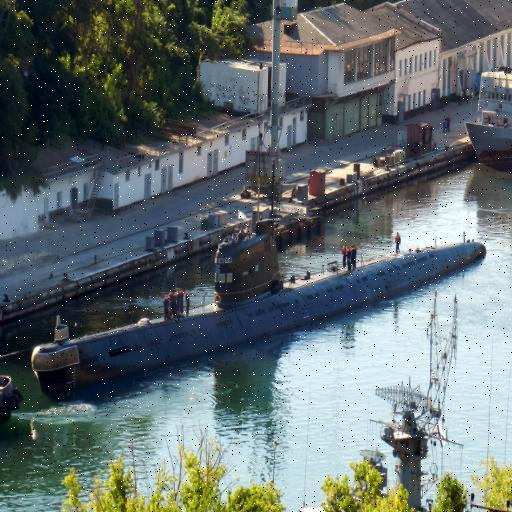submarine: (48, 195, 489, 406)
